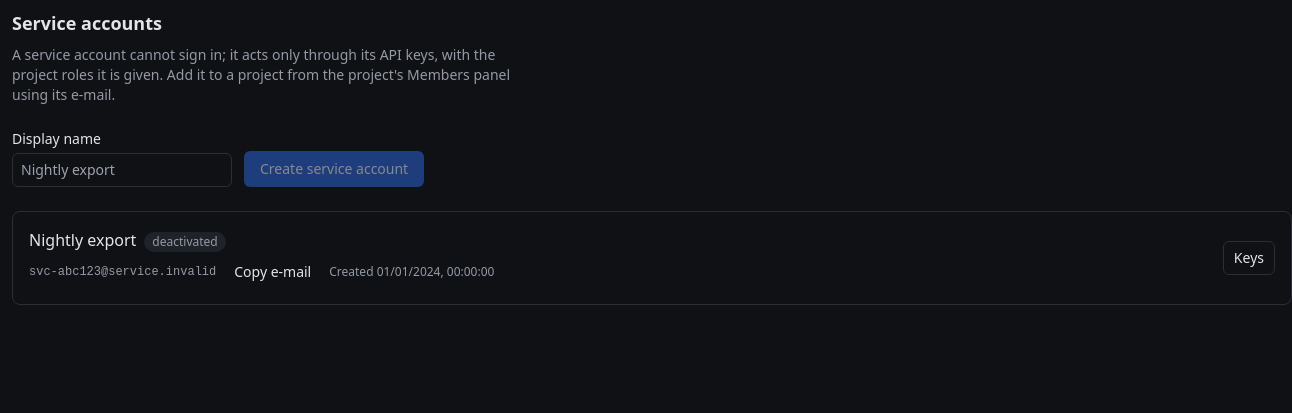
Test: ServiceAccountsPanel › offers no key form for a deactivated account
Click the button with aria-label "Show keys for Nightly export": {"x": 1249, "y": 258} x1=1223 y1=241 x2=1275 y2=275
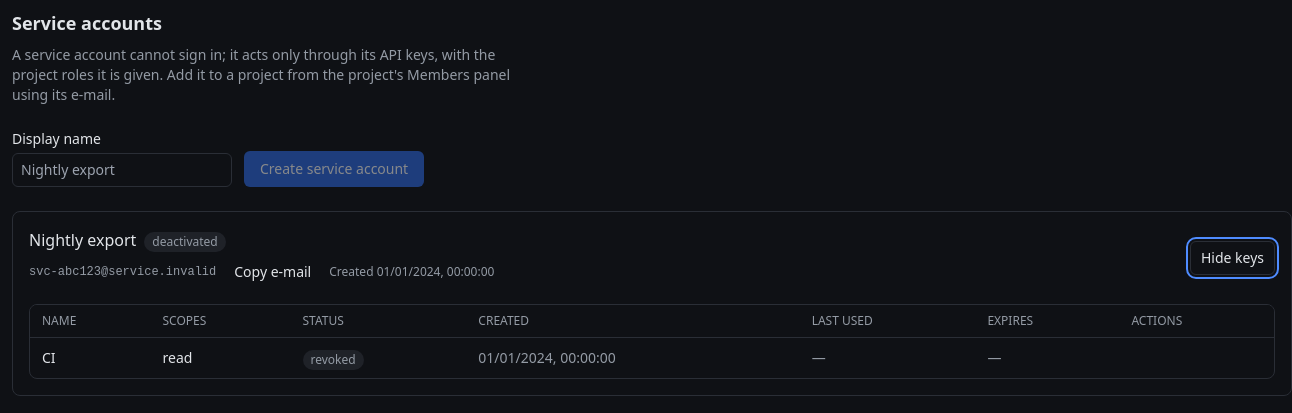
Check: the text "revoked" is shown, box x1=302 y1=350 x2=364 y2=370
